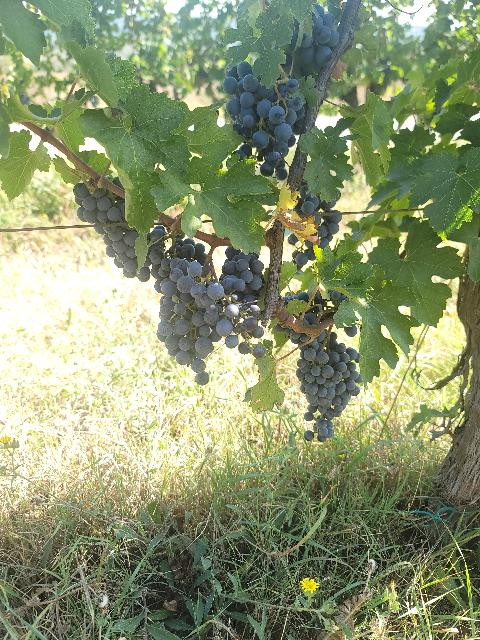grapes: (222, 61, 304, 180), (138, 225, 205, 356), (296, 332, 361, 442), (175, 282, 238, 385), (74, 180, 139, 278), (219, 246, 265, 358), (300, 4, 340, 71)
